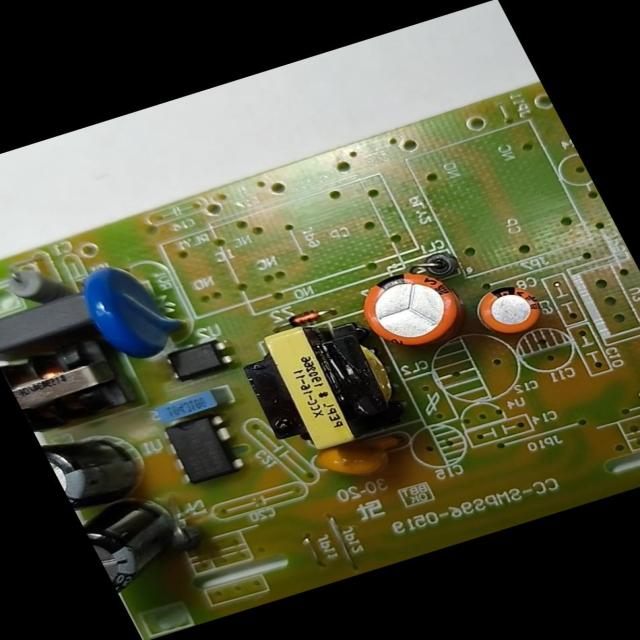Cap1: (344, 256, 481, 360)
Cap2: (463, 274, 558, 345)
Cap3: (36, 414, 156, 516)
Cap4: (79, 494, 201, 597)
MOSFET: (155, 408, 253, 492)
Mov: (64, 246, 208, 370)
Resistor: (0, 257, 71, 311)
Transformer: (222, 302, 422, 468), (0, 325, 146, 438)
